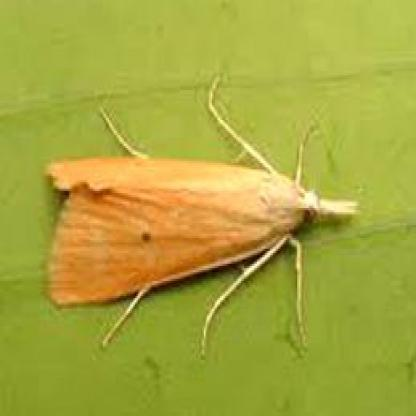stem-borer: (41, 74, 362, 364)
